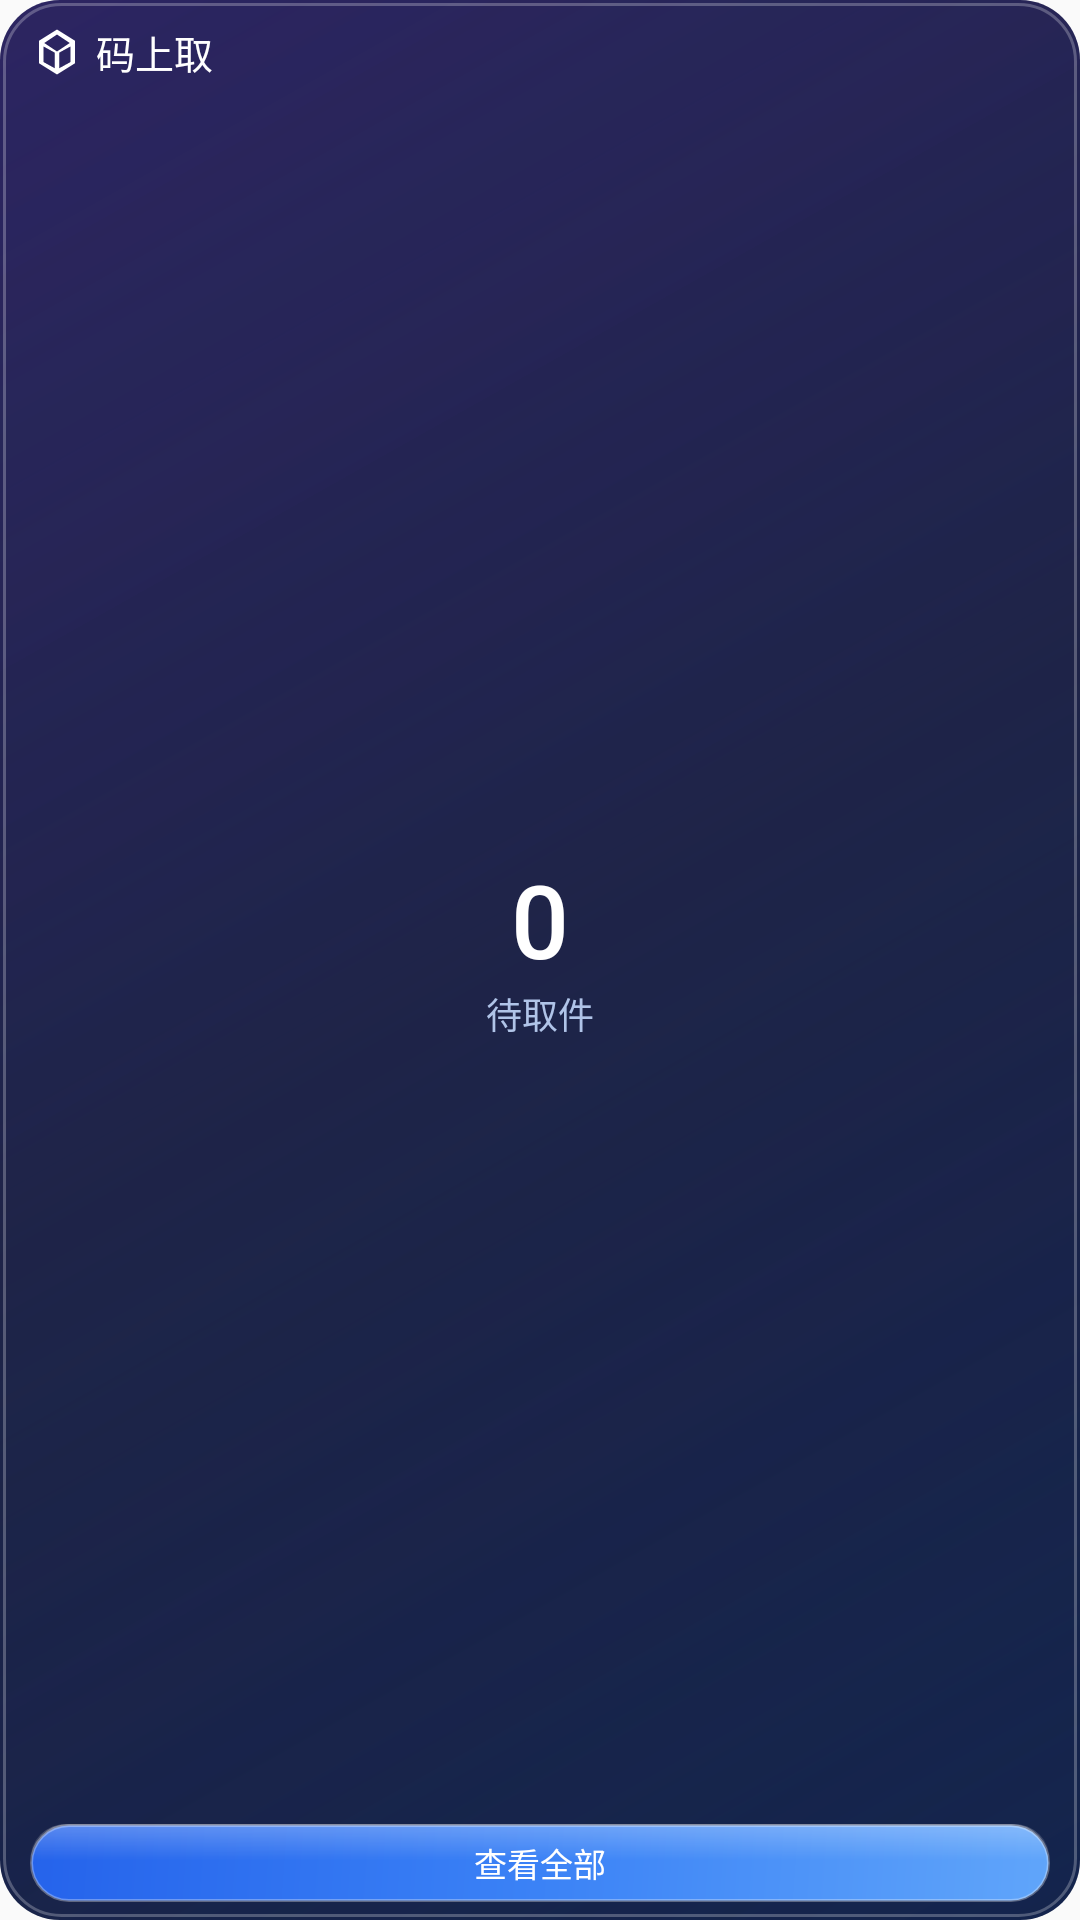

Named icons in this screenshot (1080px×1920px) and their centers, (x=x, y=y):
package: (x=57, y=52)
